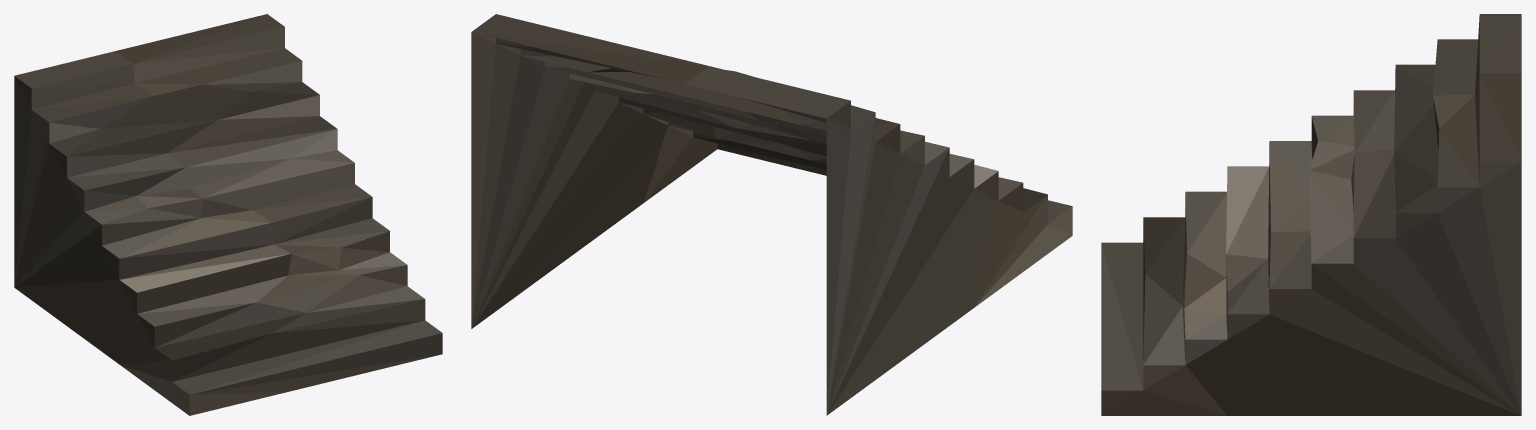
File: StepsC.fbx
3 renders of one model, left to right at view 1: azimuth 30°, elevation 25°; view 2: azimuth 150°, elevation 25°; view 3: azimuth 270°, elevation 25°, orthographic. The views are drawn at different scales.
Visible parts, largest first — view 1: StepsC; view 2: StepsC; view 3: StepsC.
Boxes of the visible parts, x1=… form: StepsC: x1=14, y1=14, x2=442, y2=415; StepsC: x1=471, y1=14, x2=1072, y2=415; StepsC: x1=1101, y1=14, x2=1521, y2=415.
Bounding box in the file's own units: 250 × 200 × 300.
